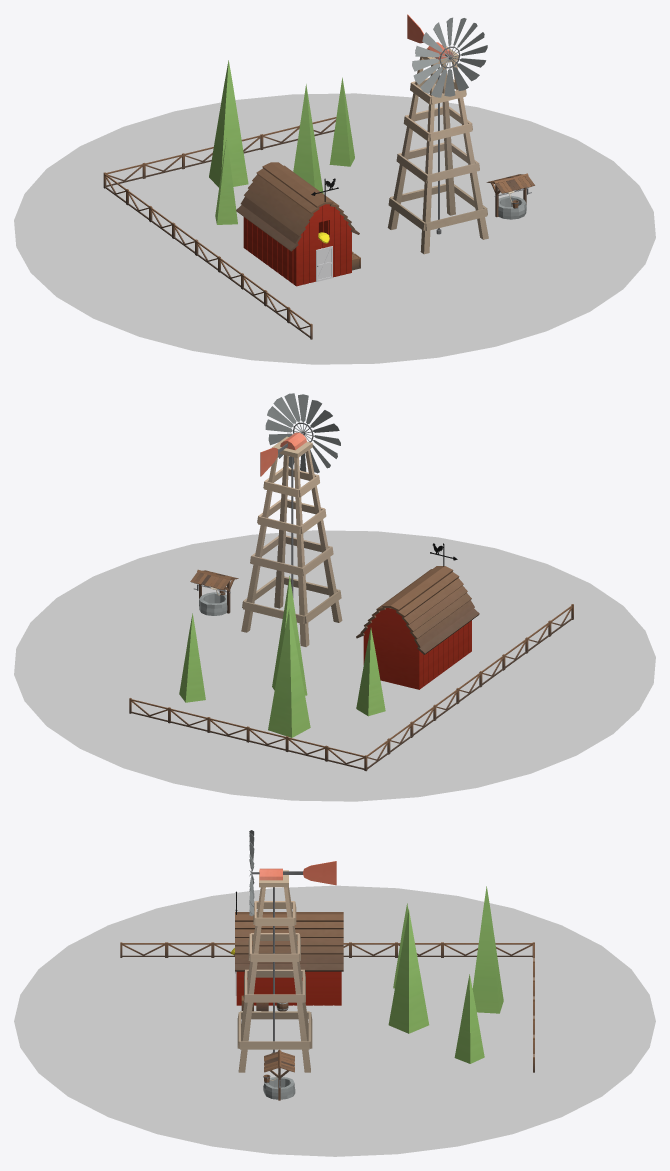
3 renders of one model, top to bottom at view 1: azimuth 30°, elevation 25°; view 2: azimuth 150°, elevation 25°; view 3: azimuth 270°, elevation 25°, orthographic.
Visible parts, largest first — view 1: Circle, Barn_01, WindMill, Trees, Fence_White.013, WindMill.001, Well; view 2: Circle, WindMill, Barn_01, Trees, Fence_White.013, WindMill.001, Well; view 3: Circle, WindMill, Barn_01, Trees, Fence_White.013, Well.
Boxes of the visible parts, x1,y1,x2,y2 form: Circle: (14,93,655,364); Barn_01: (236,162,359,286); WindMill: (387,14,488,254); Trees: (209,60,354,224); Fence_White.013: (103,117,336,339); WindMill.001: (412,17,487,97); Well: (486,173,534,219); Circle: (14,530,655,801); WindMill: (241,432,342,646); Barn_01: (356,566,479,689); Trees: (179,575,385,737); Fence_White.013: (129,604,573,771); WindMill.001: (265,393,340,473); Well: (190,569,238,615); Circle: (14,885,655,1156); WindMill: (237,861,336,1072); Barn_01: (231,912,343,1005); Trees: (388,886,503,1063); Fence_White.013: (120,942,534,1072); Well: (263,1049,295,1100).
Bounding box in the file's own units: 6.02 × 2.39 × 6.02.
2 materials, 1 textured.
